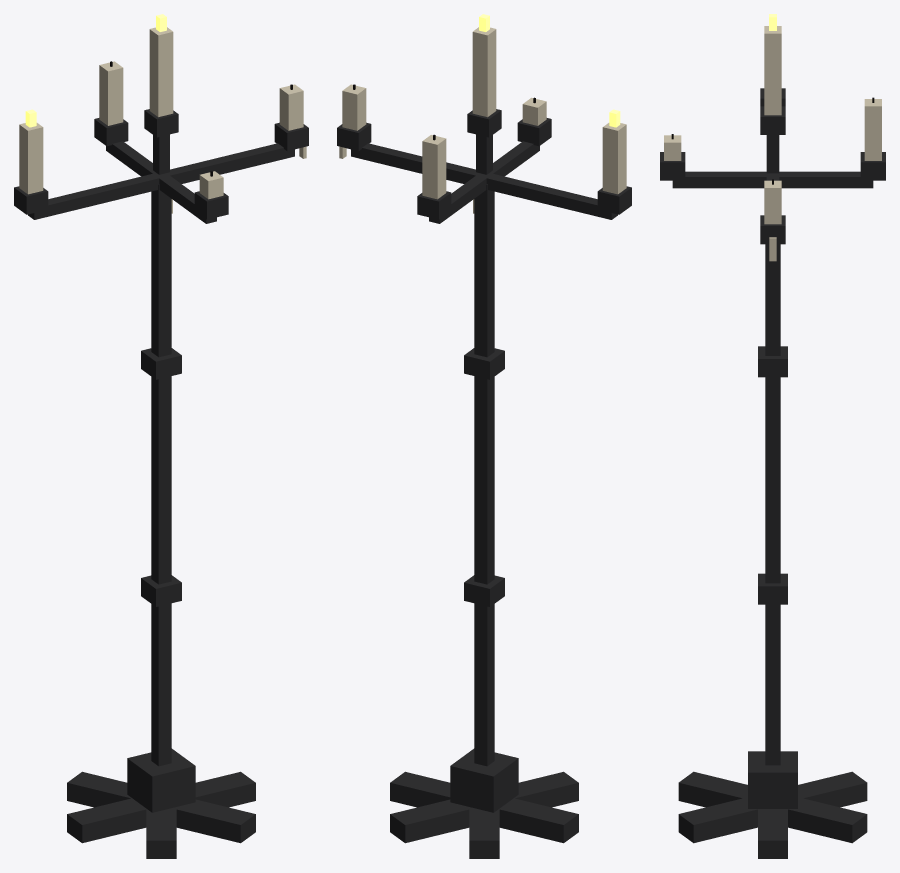
Rendered from floor_candelabra.glb.
3 renders of one model, left to right at view 1: azimuth 30°, elevation 25°; view 2: azimuth 150°, elevation 25°; view 3: azimuth 270°, elevation 25°, orthographic.
Parts seen in each view (by area): view 1: floor_candelabra; view 2: floor_candelabra; view 3: floor_candelabra.
Boxes of the visible parts, x1,y1,x2,y2 form: floor_candelabra: (14, 14, 308, 858); floor_candelabra: (337, 14, 631, 858); floor_candelabra: (660, 14, 885, 858).
Size of the model in its own units: 0.655 by 1.76 by 0.45.
